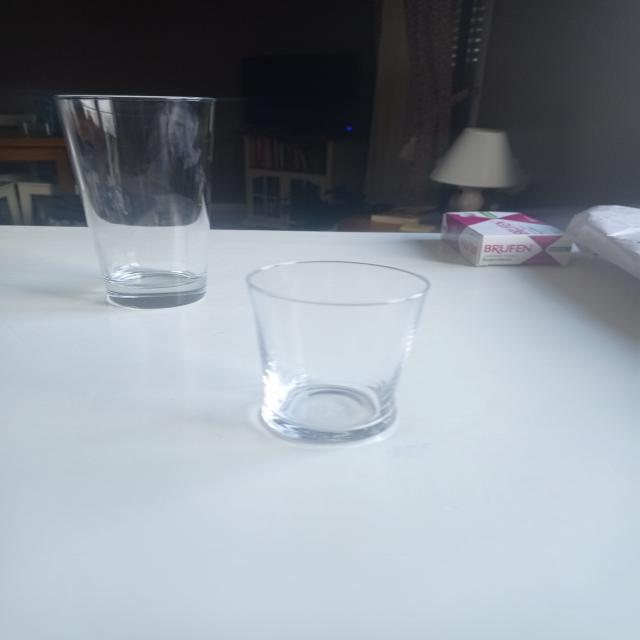Dry Waste: (53, 93, 230, 310), (243, 260, 433, 448)
